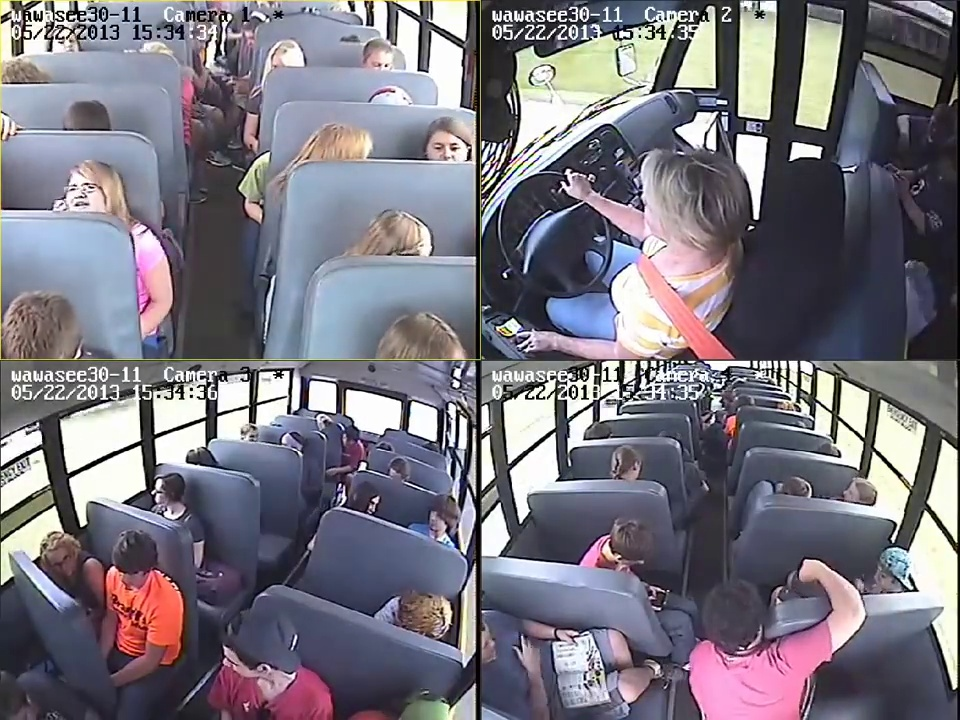face: (65, 166, 104, 211), (428, 134, 466, 161), (46, 547, 74, 578), (429, 507, 451, 534)
